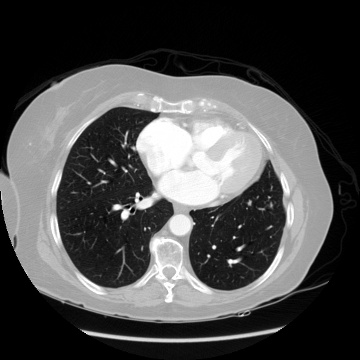PN: (245, 199, 253, 207)
